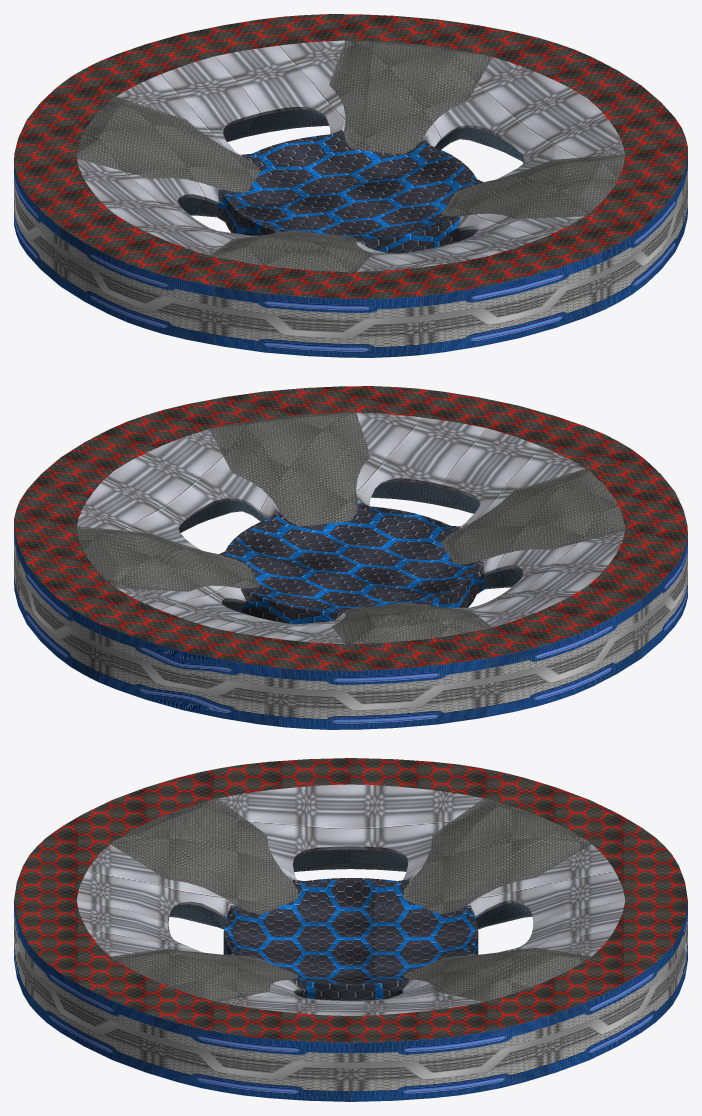
The model's file is New_Arena_Birdge_Smooth_Higher_Gaps.fbx.
3 views of the same model, one above another, from view 1: azimuth 30°, elevation 25°; view 2: azimuth 150°, elevation 25°; view 3: azimuth 270°, elevation 25° (orthographic).
Visible parts, largest first — view 1: Main_Base_Low1; view 2: Main_Base_Low1; view 3: Main_Base_Low1.
Part boxes in pixels (<box>): Main_Base_Low1: <box>14,14,687,357</box>; Main_Base_Low1: <box>14,386,687,729</box>; Main_Base_Low1: <box>14,758,687,1101</box>.
Size of the model in its own units: 7919 by 857 by 7919.
